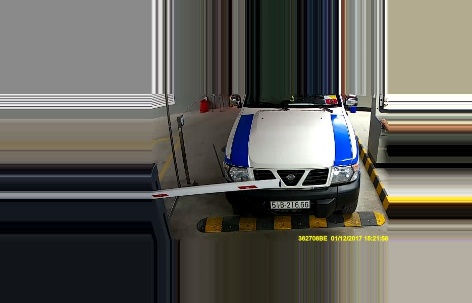plate: (268, 196, 312, 211)
